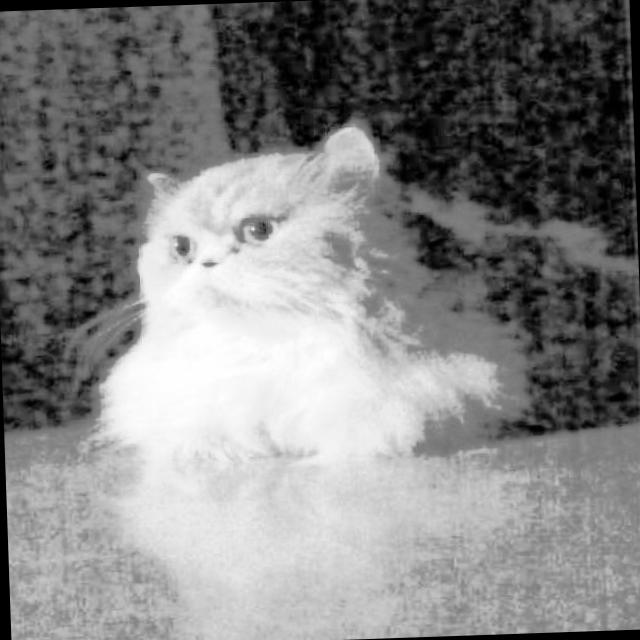Cat: (71, 90, 640, 480)
